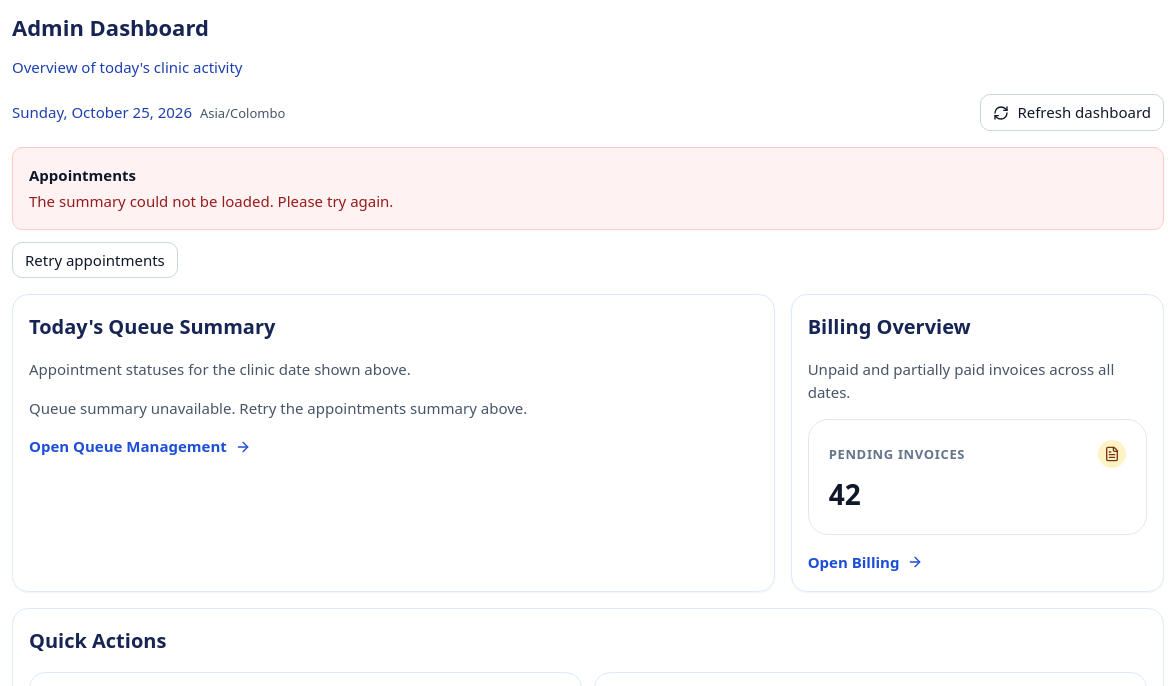
ADM-01 using MSW and the authenticated client › AC2 retries failed appointments without refetching successful billing
Expected: the message shows "Appointments", [29,165,136,185]
Expected: the heading "42" is shown, [829,476,861,514]
What coordinates should you click on to do the following:
click the button "Retry appointments"
I would click on:
 (95, 260)
Its box is [12,242,178,278].
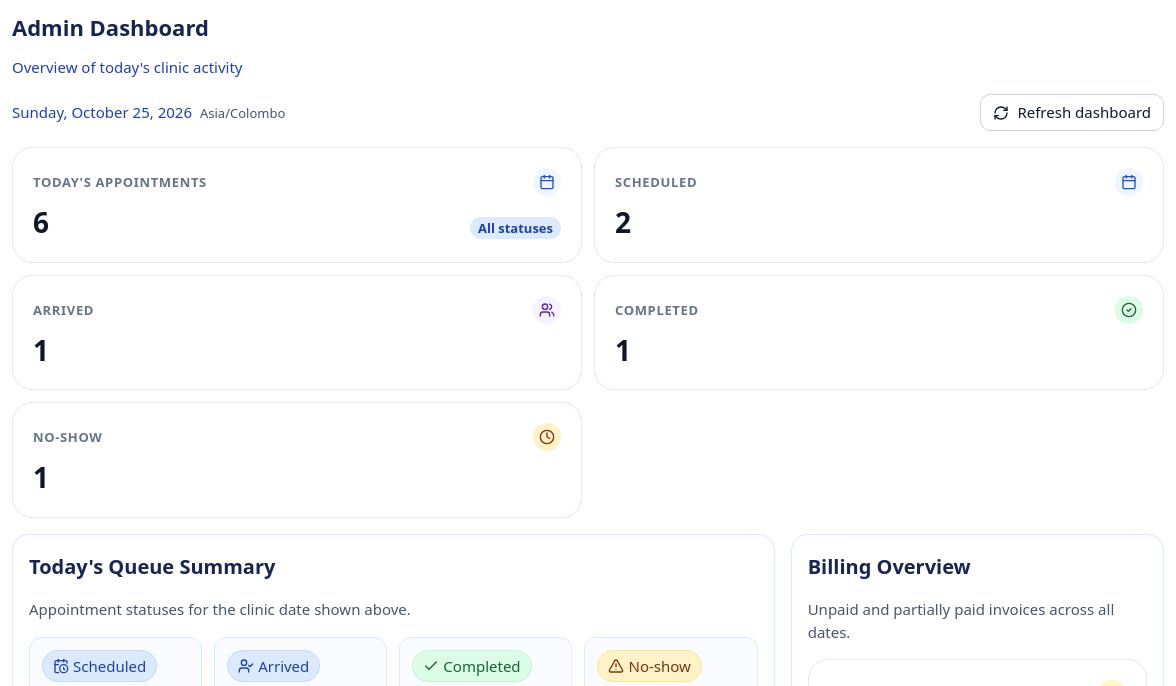
Expected: the heading "6" is shown, [33,204,49,242]
